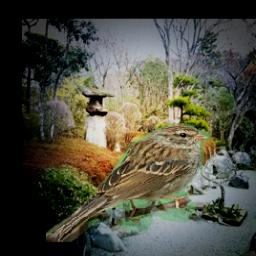Sparrow: (46, 123, 210, 243)
